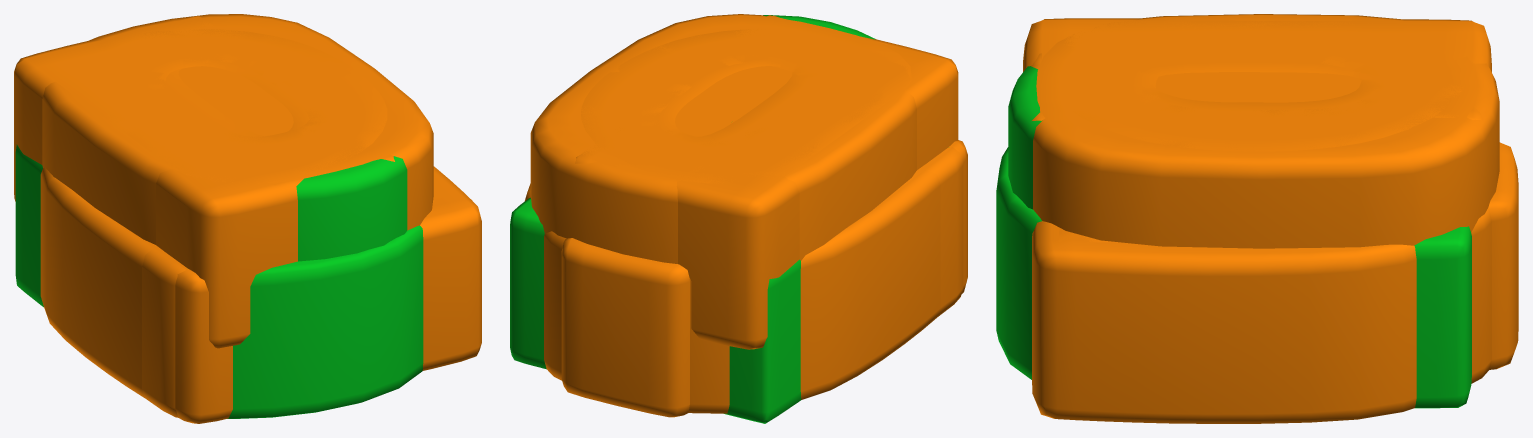
3 views of the same model, side by side, from view 1: azimuth 30°, elevation 25°; view 2: azimuth 150°, elevation 25°; view 3: azimuth 270°, elevation 25° (orthographic). The views are drawn at different scales.
Parts seen in each view (by area): view 1: A:D, A:U, A:O, A:Z, A:2, A:T, A:I; view 2: A:D, A:O, A:U, A:T, A:Z, A:I, A:S, A:2; view 3: A:U, A:O, A:D, A:Z, A:I, A:T, A:2.
Boxes of the visible parts, x1,y1,x2,y2 form: A:D: [14, 29, 387, 348]; A:U: [40, 166, 481, 423]; A:O: [42, 14, 433, 244]; A:Z: [15, 144, 423, 418]; A:2: [296, 156, 407, 261]; A:T: [130, 191, 441, 417]; A:I: [99, 16, 394, 185]; A:D: [581, 29, 958, 349]; A:O: [530, 14, 916, 263]; A:U: [525, 140, 967, 399]; A:T: [561, 147, 963, 417]; A:Z: [510, 197, 801, 423]; A:I: [575, 15, 887, 181]; A:S: [688, 277, 729, 413]; A:2: [763, 15, 875, 39]; A:U: [1032, 208, 1491, 423]; A:O: [1031, 14, 1499, 248]; A:D: [1023, 18, 1491, 151]; A:Z: [996, 147, 1471, 408]; A:I: [1032, 53, 1483, 120]; A:T: [1058, 142, 1518, 369]; A:2: [1008, 66, 1042, 209].
Bounding box in the file's own units: 30.14 × 20.29 × 37.91.
